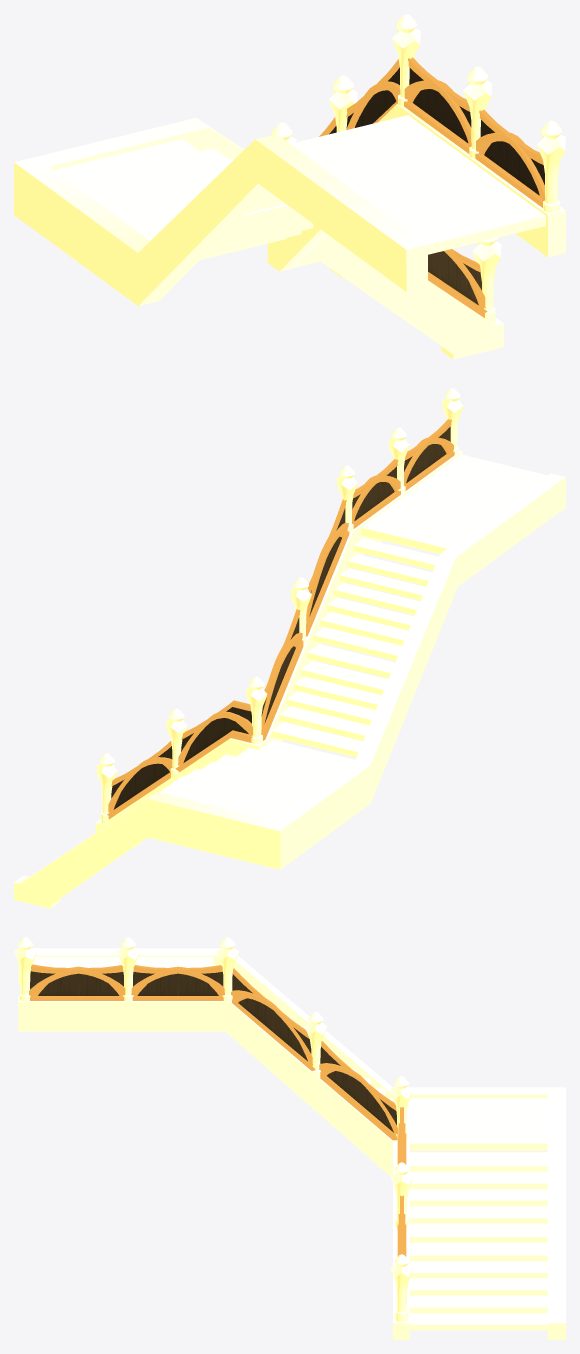
The model's file is Homeworld_Interior_Xm_Room_K_Stair_01_Vo.fbx.
The picture shows the model from 3 angles, top to bottom: view 1: azimuth 30°, elevation 25°; view 2: azimuth 150°, elevation 25°; view 3: azimuth 270°, elevation 25°; orthographic projection. The views are drawn at different scales.
Parts seen in each view (by area): view 1: Homeworld_Interior_Xm_Room_K_Stair_01_Vo; view 2: Homeworld_Interior_Xm_Room_K_Stair_01_Vo; view 3: Homeworld_Interior_Xm_Room_K_Stair_01_Vo.
Part boxes in pixels (left/top/right/bottom): Homeworld_Interior_Xm_Room_K_Stair_01_Vo: left=14, top=14, right=565, bottom=359; Homeworld_Interior_Xm_Room_K_Stair_01_Vo: left=14, top=388, right=565, bottom=908; Homeworld_Interior_Xm_Room_K_Stair_01_Vo: left=14, top=937, right=565, bottom=1339.
Size of the model in its own units: 5.4 by 6.56 by 10.
